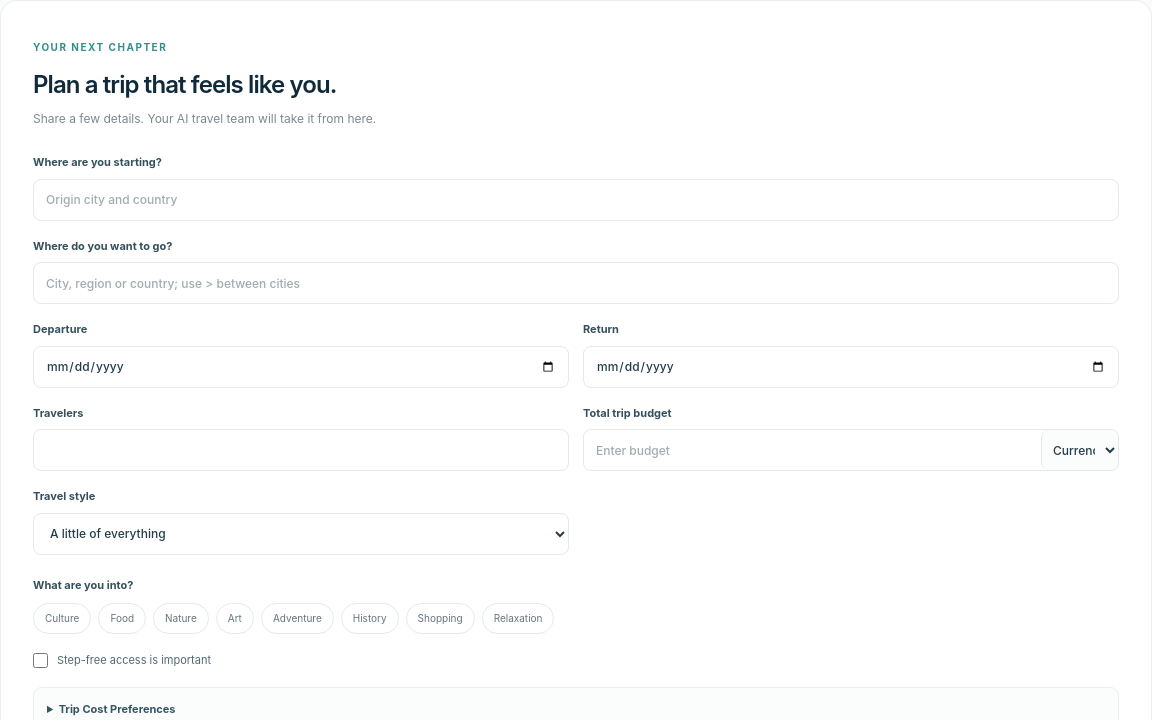
Test case: PlannerForm › shows safe API error text without internal traces
Type "Seattle" into the field labelled "Where are you starting?" at {"x": 576, "y": 200}, box 33,179 -> 1119,221
Type "Kyoto" into the field labelled "Where do you want to go?" at {"x": 576, "y": 283}, box 33,262 -> 1119,304
Type "3500" into the number field labelled "Total trip budget" at {"x": 812, "y": 450}, box 584,430 -> 1041,470
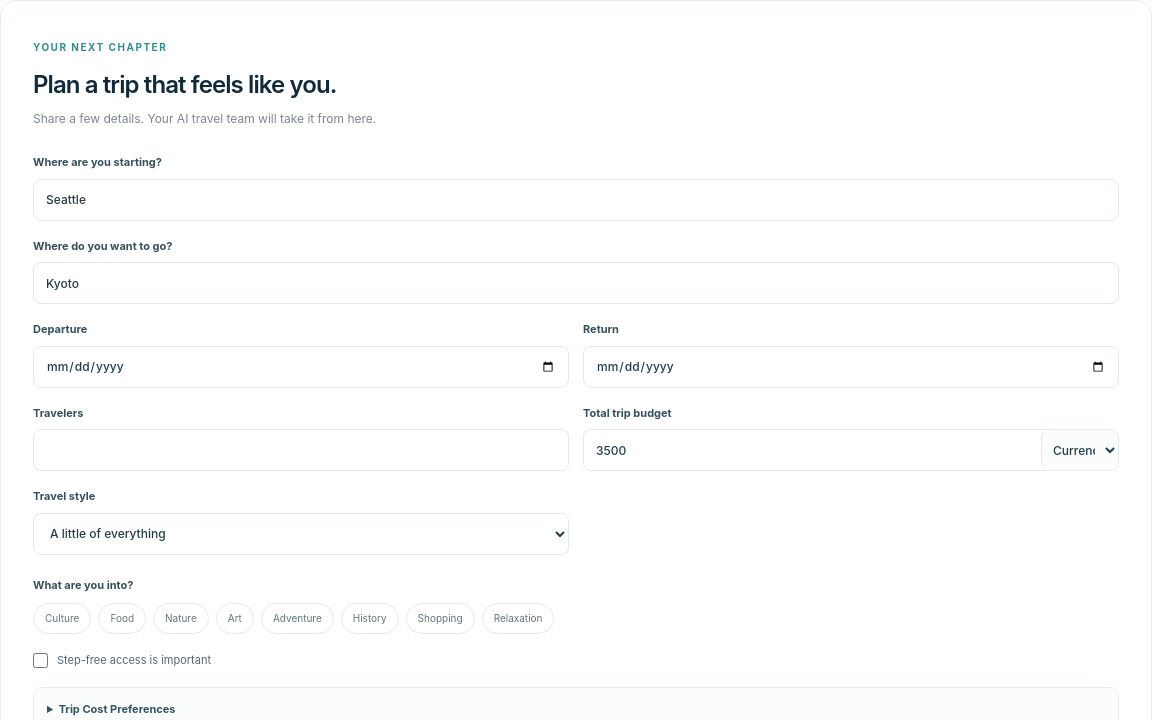
Type "2030-05-01" into the date field named "Departure date" at {"x": 301, "y": 367}, box 33,346 -> 569,388
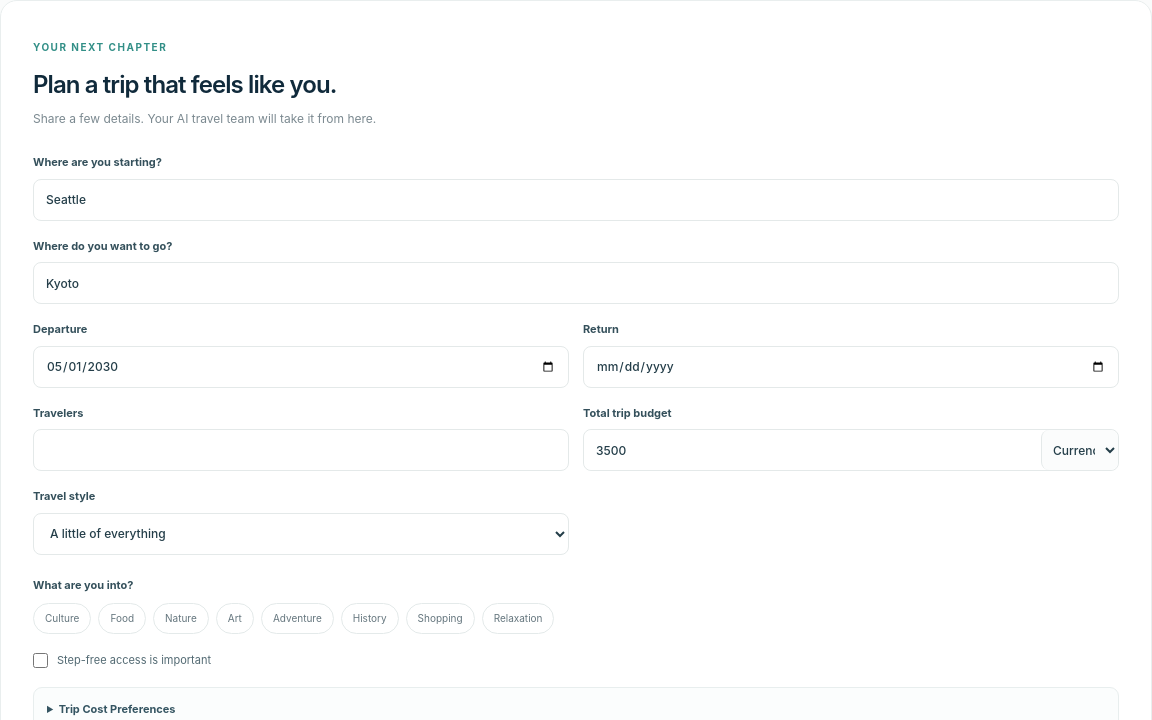
Type "2030-05-06" into the date field named "Return date" at {"x": 851, "y": 367}, box 583,346 -> 1119,388
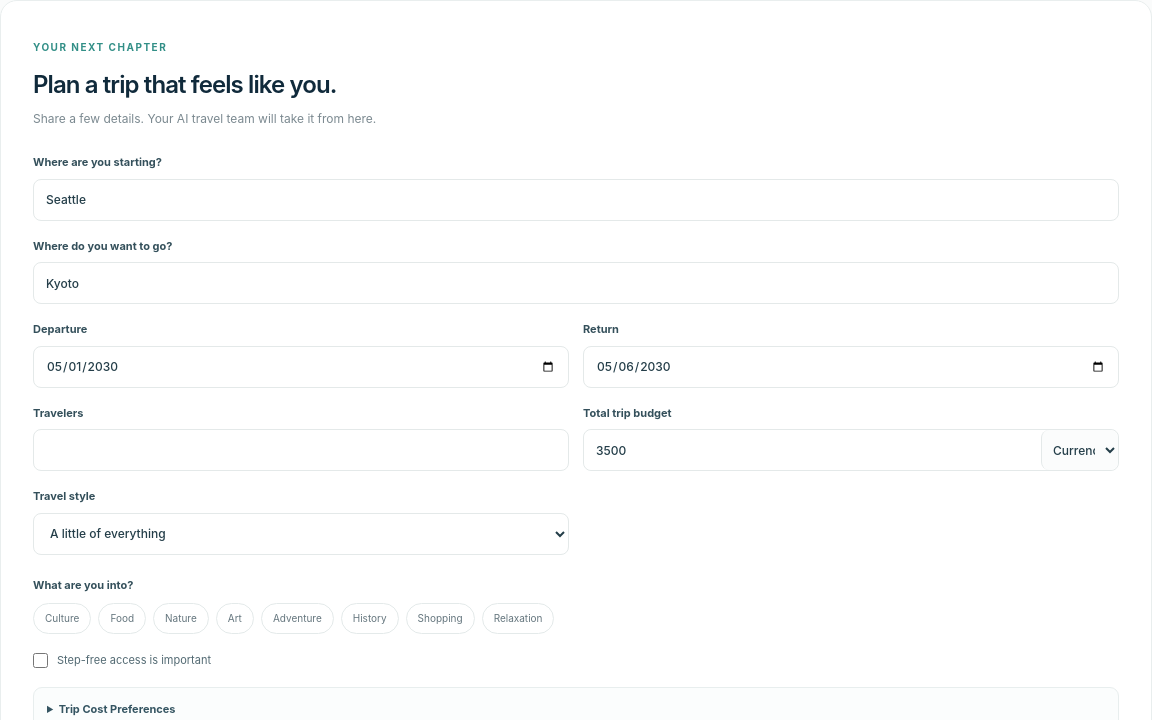
Type "2" into the number field named "Number of travelers" at {"x": 301, "y": 450}, box 33,429 -> 569,471
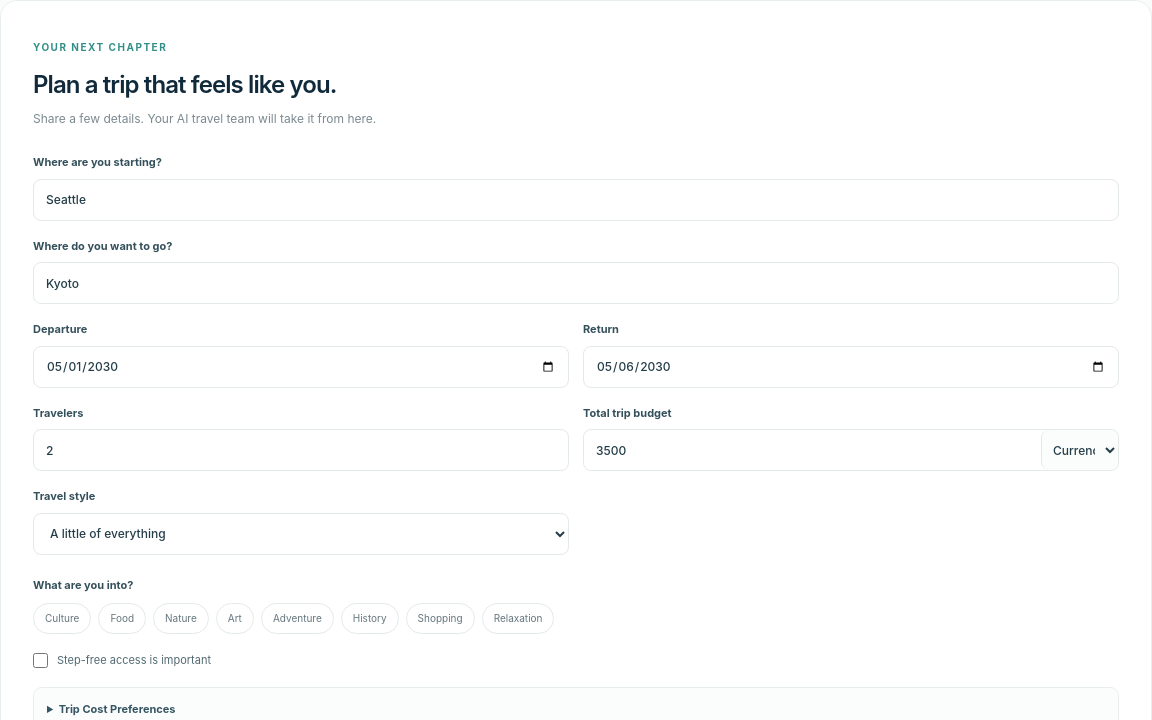
Select "USD" in the dropdown named "Currency" at {"x": 1080, "y": 450}, box 1041,430 -> 1118,470
(page scrolled)
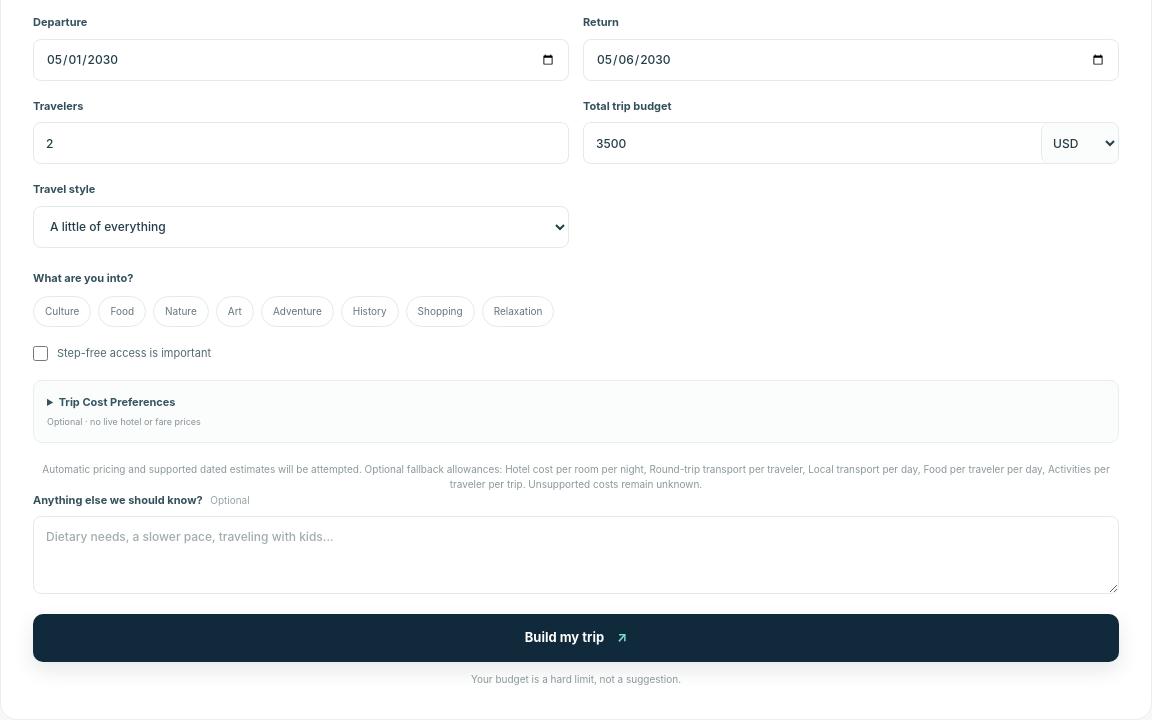
Click the button "Build my trip ↗" at {"x": 576, "y": 638}, box 33,614 -> 1119,662
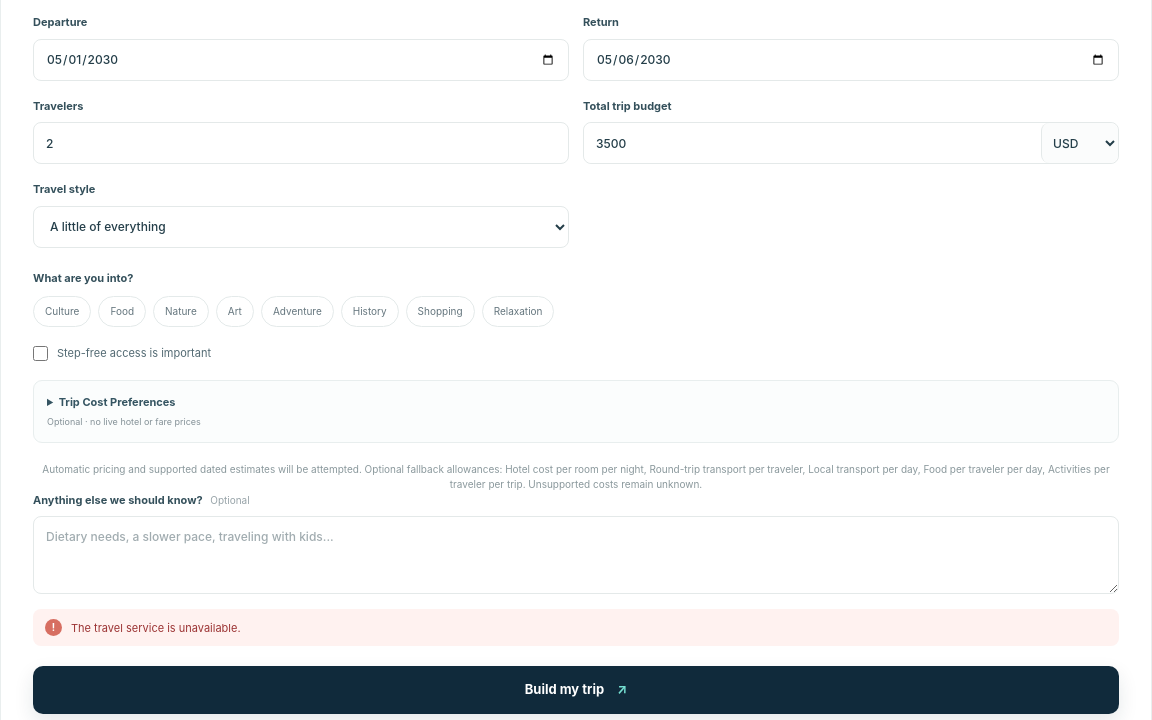
Result: the message "! The travel service is unavailable." is shown at 33,609 -> 1119,646
